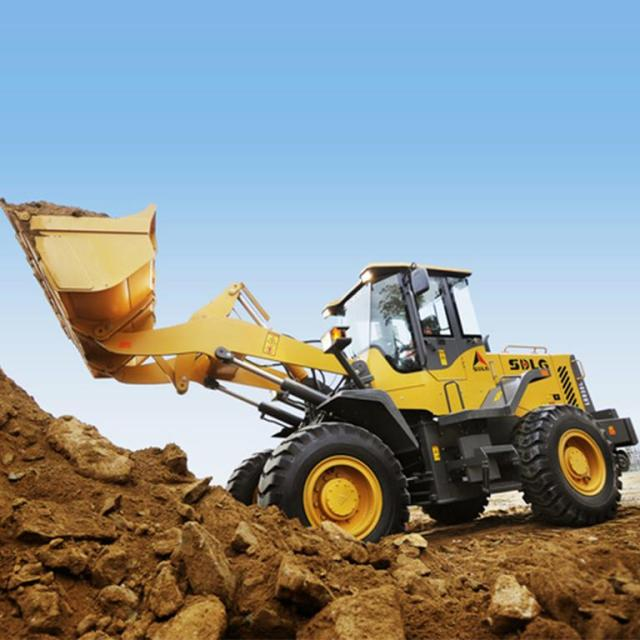buldozerpayloadergrader: (4, 196, 640, 547)
